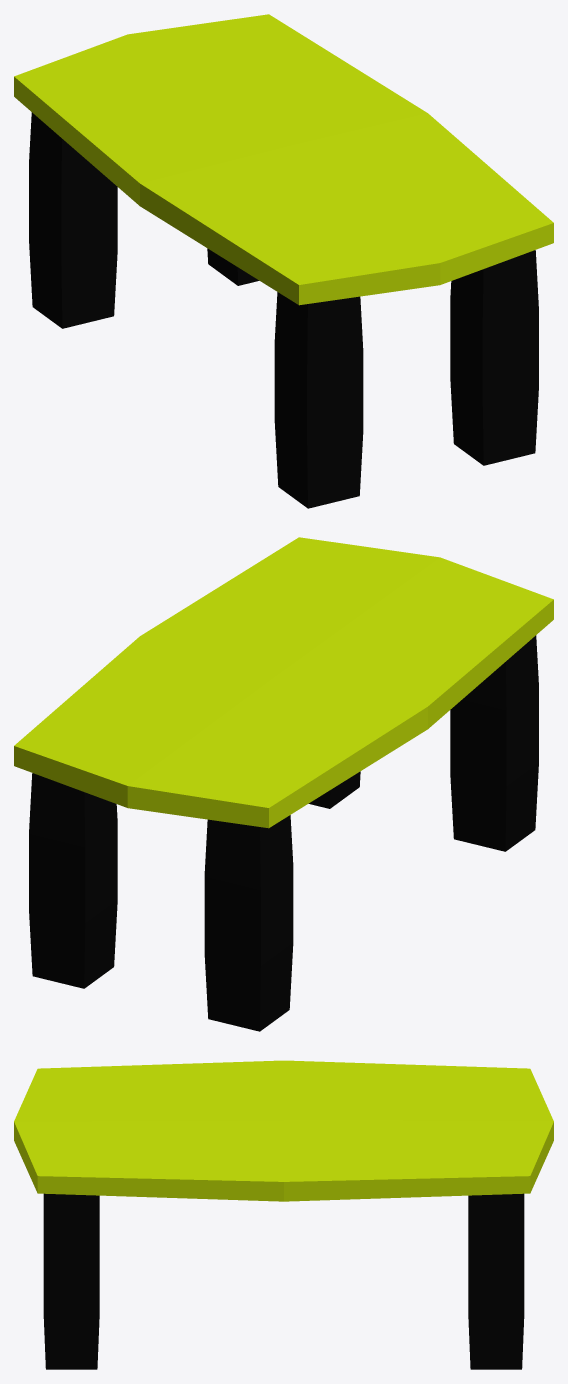
The model's file is Table.fbx.
3 views of the same model, one above another, from view 1: azimuth 30°, elevation 25°; view 2: azimuth 150°, elevation 25°; view 3: azimuth 270°, elevation 25° (orthographic). The views are drawn at different scales.
Visible parts, largest first — view 1: Table; view 2: Table; view 3: Table.
Part boxes in pixels (x1,y1,x2,y2): Table: (14, 14, 553, 508); Table: (14, 537, 553, 1031); Table: (14, 1060, 553, 1369).
Size of the model in its own units: 117 by 90.15 by 219.
